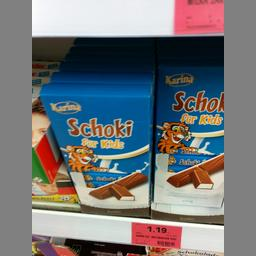chocolate: (38, 81, 152, 216), (154, 60, 223, 206)
